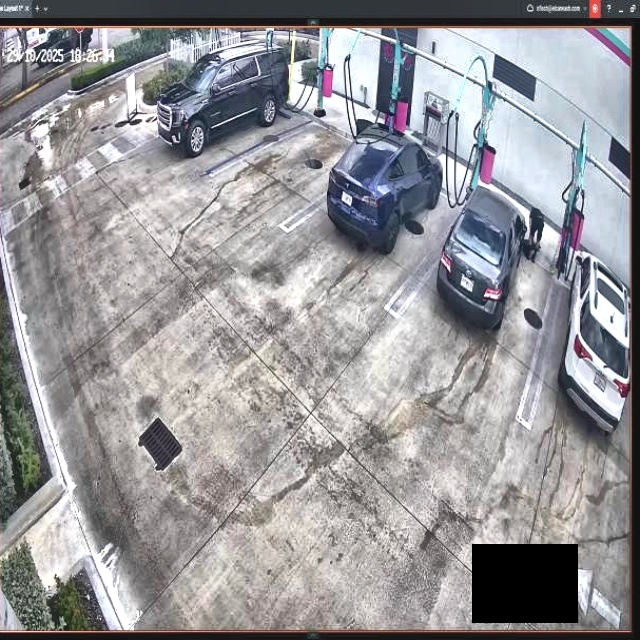Car: (327, 121, 442, 247), (156, 49, 288, 154), (436, 184, 526, 325)
